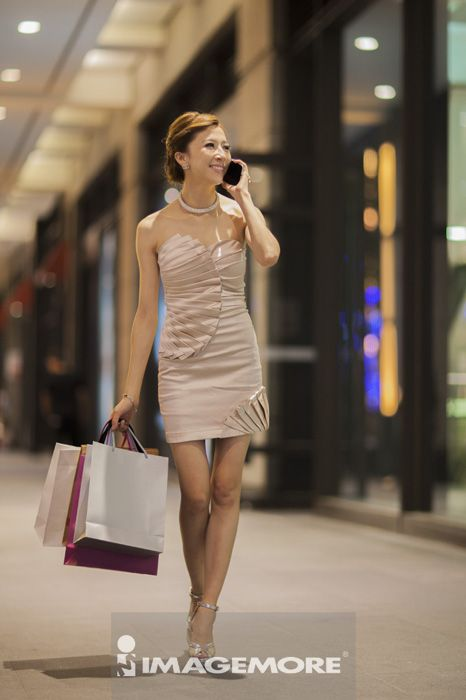talk: (197, 134, 252, 200)
